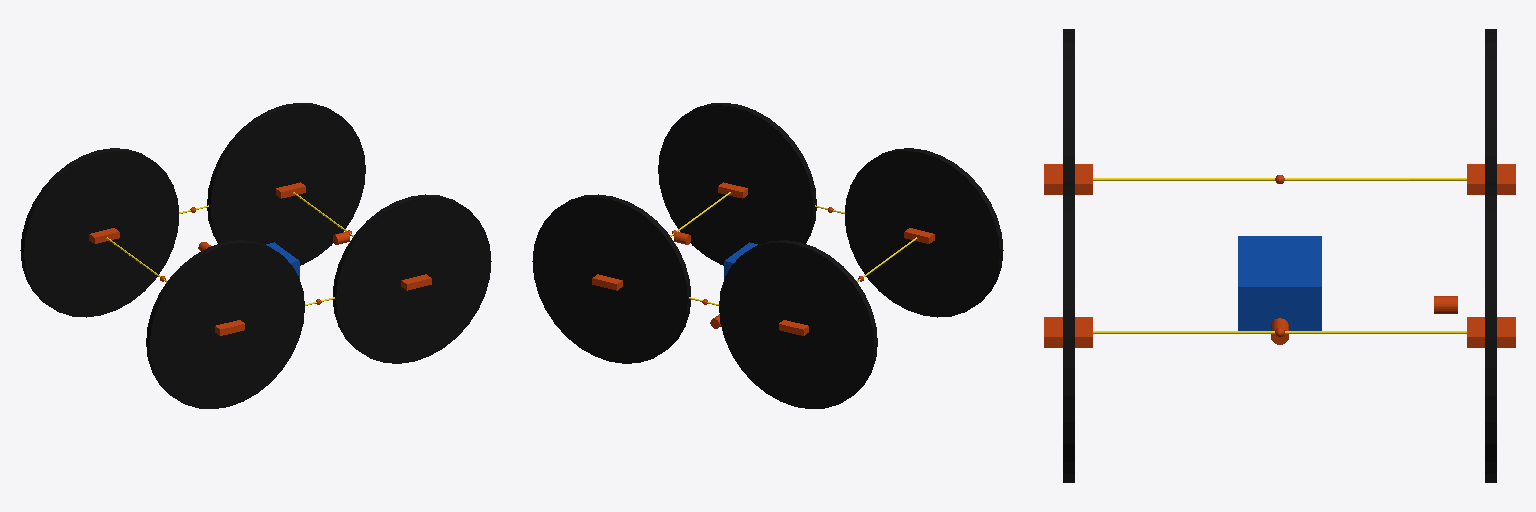
URDF robot description (goat):
<?xml version="1.0"?>
<!--
  GOAT Robot URDF — Version 4 (Corrected geometry, inertia, tendons)

  
  CORRECTIONS v4 vs v3:
  
  [FIX 1] SEGMENTS  origins recalculés au midpoint en frame parent
    seg_front : parent=lens_FL, midpoint de FL(0.30,+0.35) vers FR(0.30,-0.35)
                → vector dans frame lens_FL = (0, -0.35, 0)
    seg_right : parent=lens_FR, midpoint de FR(0.30,-0.35) vers RR(-0.30,-0.35)
                → vector dans frame lens_FR = (-0.30, 0, 0)
    seg_back  : parent=lens_RR, midpoint de RR(-0.30,-0.35) vers RL(-0.30,+0.35)
                → vector dans frame lens_RR = (0, +0.35, 0)
    seg_left  : parent=lens_RL, midpoint de RL(-0.30,+0.35) vers FL(+0.30,+0.35)
                → vector dans frame lens_RL = (+0.30, 0, 0)

  [FIX 2] ROUES  toutes axis xyz="0 1 0" (avance selon X)
    Spawn height: payload à Z=0.275 → roues (lenses à Z=0.05 rel.) à Z=0.325
    → roues touchent sol à Z = 0.325 - 0.25 = 0.075 ✓ (avec sol à Z=0)
    NOTE: spawn pos dans goat_sim.py doit être pos=(0,0,0.325)

  [FIX 3] INERTIE  rpy supprimé de <inertial>, termes recalculés dans frame link
    Cylindre aligné Y (seg_front/seg_back, L=0.70m, r=0.0025m, m=0.09kg):
      ixx = izz = m*(3r²+L²)/12 = 0.09*(7.5e-6+0.49)/12 = 3.675e-3
      iyy = m*r²/2 = 0.09*6.25e-6/2 = 2.8e-7 ≈ 1e-6 (plancher numérique)
    Cylindre aligné X (seg_right/seg_left, L=0.60m, r=0.0025m, m=0.08kg):
      ixx = m*r²/2 = 2.5e-7 ≈ 1e-6
      iyy = izz = m*(3r²+L²)/12 = 0.08*(7.5e-6+0.36)/12 = 2.400e-3
    Cylindre roue aligné Y (R=0.25m, h=0.02m, m=0.05kg):
      Disque fin: ixx=izz=m*(3R²+h²)/12=0.05*(0.1875+0.0004)/12=7.83e-4
      iyy = m*R²/2 = 0.05*0.0625/2 = 1.5625e-3

  [FIX 4] TENDONS  cycle fermé impossible en URDF (Genesis = arbre acyclique)
    Solution: joints prismatiques payload→actuator (représentent longueur du tendon)
    Les eyelets sont des liens fixed sur les lenses (visualisation + point de force en Python)
    La force de tendon est appliquée en Python via apply_force() sur les lenses
    tenant compte de la distance eyelet↔payload à chaque step

  GÉOMÉTRIE (cf paper):
    • 4 tiges fibre de verre: L=2m, d=5mm → 2 anneaux de circonférence 4m
    • Rayon anneau: R = 4/(2π) = 0.6366m (non utilisé ici: approx rectangulaire)
    • Connecteurs rigides (chevrons): 2×8cm, angle 120°
    • Roues: 10 rayons, L=25cm, d=8mm fibre de verre
    • Séparation lenses (track width): 54cm → demi-track = 0.27m ≈ 0.30m
    • Séparation front-back: ~0.70m → demi = 0.35m
    • Payload: 1.8kg, total: 2.8kg
  
-->
<robot name="goat">

  <material name="fiberglass"><color rgba="0.95 0.85 0.10 1.0"/></material>
  <material name="payload_box"><color rgba="0.10 0.35 0.70 1.0"/></material>
  <material name="wheel_dark"><color rgba="0.12 0.12 0.12 1.0"/></material>
  <material name="connector"><color rgba="0.80 0.30 0.10 1.0"/></material>

  <!-- 
       PAYLOAD — base link, 1.8 kg
       Boîtier central waterproof (paper: 1.8kg)
       Dimensions estimées: 20×14×8 cm
 -->
  <link name="payload">
    <visual>
      <origin xyz="0 0 0" rpy="0 0 0"/>
      <geometry><box size="0.20 0.14 0.08"/></geometry>
      <material name="payload_box"/>
    </visual>
    <collision>
      <origin xyz="0 0 0" rpy="0 0 0"/>
      <geometry><box size="0.20 0.14 0.08"/></geometry>
    </collision>
    <inertial>
      <origin xyz="0 0 0" rpy="0 0 0"/>
      <mass value="1.80"/>
      <!-- Boîte 20×14×8cm: ixx=m(b²+c²)/12, iyy=m(a²+c²)/12, izz=m(a²+b²)/12 -->
      <inertia ixx="0.003940" ixy="0" ixz="0"
               iyy="0.005150" iyz="0"
               izz="0.006720"/>
    </inertial>
  </link>

  <!-- 
       LENSES (×4) — Connecteurs rigides chevrons
       Paper: 2 tiges 8cm, angle 120°, joint T fixe
       Positions dans frame payload:
         FL: (+0.30, +0.35, 0.05)
         FR: (+0.30, -0.35, 0.05)
         RL: (-0.30, +0.35, 0.05)
         RR: (-0.30, -0.35, 0.05)
       Visualisation: boîte 8×8×2cm (approxime le chevron)
  -->

  <link name="lens_FL">
    <visual>
      <origin xyz="0 0 0" rpy="0 0 0"/>
      <geometry><box size="0.08 0.08 0.02"/></geometry>
      <material name="connector"/>
    </visual>
    <collision>
      <origin xyz="0 0 0" rpy="0 0 0"/>
      <geometry><box size="0.08 0.08 0.02"/></geometry>
    </collision>
    <inertial>
      <origin xyz="0 0 0" rpy="0 0 0"/>
      <mass value="0.010"/>
      <!-- Boîte 8×8×2cm -->
      <inertia ixx="0.0000117" ixy="0" ixz="0"
               iyy="0.0000117" iyz="0"
               izz="0.0000213"/>
    </inertial>
  </link>
  <joint name="lens_FL_joint" type="fixed">
    <parent link="payload"/>
    <child  link="lens_FL"/>
    <origin xyz="0.30 0.35 0.05" rpy="0 0 0"/>
  </joint>

  <link name="lens_FR">
    <visual>
      <origin xyz="0 0 0" rpy="0 0 0"/>
      <geometry><box size="0.08 0.08 0.02"/></geometry>
      <material name="connector"/>
    </visual>
    <collision>
      <origin xyz="0 0 0" rpy="0 0 0"/>
      <geometry><box size="0.08 0.08 0.02"/></geometry>
    </collision>
    <inertial>
      <origin xyz="0 0 0" rpy="0 0 0"/>
      <mass value="0.010"/>
      <inertia ixx="0.0000117" ixy="0" ixz="0"
               iyy="0.0000117" iyz="0"
               izz="0.0000213"/>
    </inertial>
  </link>
  <joint name="lens_FR_joint" type="fixed">
    <parent link="payload"/>
    <child  link="lens_FR"/>
    <origin xyz="0.30 -0.35 0.05" rpy="0 0 0"/>
  </joint>

  <link name="lens_RL">
    <visual>
      <origin xyz="0 0 0" rpy="0 0 0"/>
      <geometry><box size="0.08 0.08 0.02"/></geometry>
      <material name="connector"/>
    </visual>
    <collision>
      <origin xyz="0 0 0" rpy="0 0 0"/>
      <geometry><box size="0.08 0.08 0.02"/></geometry>
    </collision>
    <inertial>
      <origin xyz="0 0 0" rpy="0 0 0"/>
      <mass value="0.010"/>
      <inertia ixx="0.0000117" ixy="0" ixz="0"
               iyy="0.0000117" iyz="0"
               izz="0.0000213"/>
    </inertial>
  </link>
  <joint name="lens_RL_joint" type="fixed">
    <parent link="payload"/>
    <child  link="lens_RL"/>
    <origin xyz="-0.30 0.35 0.05" rpy="0 0 0"/>
  </joint>

  <link name="lens_RR">
    <visual>
      <origin xyz="0 0 0" rpy="0 0 0"/>
      <geometry><box size="0.08 0.08 0.02"/></geometry>
      <material name="connector"/>
    </visual>
    <collision>
      <origin xyz="0 0 0" rpy="0 0 0"/>
      <geometry><box size="0.08 0.08 0.02"/></geometry>
    </collision>
    <inertial>
      <origin xyz="0 0 0" rpy="0 0 0"/>
      <mass value="0.010"/>
      <inertia ixx="0.0000117" ixy="0" ixz="0"
               iyy="0.0000117" iyz="0"
               izz="0.0000213"/>
    </inertial>
  </link>
  <joint name="lens_RR_joint" type="fixed">
    <parent link="payload"/>
    <child  link="lens_RR"/>
    <origin xyz="-0.30 -0.35 0.05" rpy="0 0 0"/>
  </joint>

  <!-- 
       SEGMENTS (×4) — Tiges fibre de verre
       
       [FIX 1] origin = vecteur du frame parent vers le MIDPOINT du segment
       [FIX 3] inertie calculée dans frame link (pas de rpy dans <inertial>)
       
       seg_front: FL→FR, longueur 0.70m, axe Y
         midpoint world: (0.30, 0.00, 0.05)
         frame parent (lens_FL) à (0.30, +0.35, 0.05)
         → origin xyz="0.0 -0.35 0.0" (FL vers midpoint)
         → cylindre aligné Y: rpy="1.5708 0 0" dans visual
         
       seg_right: FR→RR, longueur 0.60m, axe X
         midpoint world: (0.00, -0.35, 0.05)
         frame parent (lens_FR) à (0.30, -0.35, 0.05)
         → origin xyz="-0.30 0.0 0.0"
         → cylindre aligné X: rpy="0 1.5708 0" dans visual
         
       seg_back: RR→RL, longueur 0.70m, axe Y
         midpoint world: (-0.30, 0.00, 0.05)
         frame parent (lens_RR) à (-0.30, -0.35, 0.05)
         → origin xyz="0.0 0.35 0.0"
         → cylindre aligné Y: rpy="1.5708 0 0" dans visual
         
       seg_left: RL→FL, longueur 0.60m, axe X
         midpoint world: (0.00, +0.35, 0.05)
         frame parent (lens_RL) à (-0.30, +0.35, 0.05)
         → origin xyz="0.30 0.0 0.0"
         → cylindre aligné X: rpy="0 1.5708 0" dans visual
-->

  <!-- SEGMENT FRONT: FL → FR (0.70m, axe Y) -->
  <link name="seg_front">
    <visual>
      <origin xyz="0 0 0" rpy="1.5708 0 0"/>
      <geometry><cylinder radius="0.0025" length="0.70"/></geometry>
      <material name="fiberglass"/>
    </visual>
    <collision>
      <origin xyz="0 0 0" rpy="1.5708 0 0"/>
      <geometry><cylinder radius="0.0025" length="0.70"/></geometry>
    </collision>
    <inertial>
      <origin xyz="0 0 0" rpy="0 0 0"/>
      <mass value="0.09"/>
      <!--
        Cylindre aligné Y: L=0.70m, r=0.0025m, m=0.09kg
        ixx = izz = m*(3r²+L²)/12 = 0.09*(3*6.25e-6+0.49)/12 = 3.675e-3
        iyy = m*r²/2                = 0.09*6.25e-6/2           = 2.8e-7 → 1e-6
      -->
      <inertia ixx="0.003675" ixy="0" ixz="0"
               iyy="0.000001" iyz="0"
               izz="0.003675"/>
    </inertial>
  </link>
  <joint name="j_FL_to_seg_front" type="fixed">
    <parent link="lens_FL"/>
    <child  link="seg_front"/>
    <origin xyz="0.0 -0.35 0.0" rpy="0 0 0"/>
  </joint>

  <!-- SEGMENT RIGHT: FR → RR (0.60m, axe X) -->
  <link name="seg_right">
    <visual>
      <origin xyz="0 0 0" rpy="0 1.5708 0"/>
      <geometry><cylinder radius="0.0025" length="0.60"/></geometry>
      <material name="fiberglass"/>
    </visual>
    <collision>
      <origin xyz="0 0 0" rpy="0 1.5708 0"/>
      <geometry><cylinder radius="0.0025" length="0.60"/></geometry>
    </collision>
    <inertial>
      <origin xyz="0 0 0" rpy="0 0 0"/>
      <mass value="0.08"/>
      <!--
        Cylindre aligné X: L=0.60m, r=0.0025m, m=0.08kg
        ixx = m*r²/2                = 0.08*6.25e-6/2           = 2.5e-7 → 1e-6
        iyy = izz = m*(3r²+L²)/12  = 0.08*(1.875e-5+0.36)/12 = 2.400e-3
      -->
      <inertia ixx="0.000001" ixy="0" ixz="0"
               iyy="0.002400" iyz="0"
               izz="0.002400"/>
    </inertial>
  </link>
  <joint name="j_FR_to_seg_right" type="fixed">
    <parent link="lens_FR"/>
    <child  link="seg_right"/>
    <origin xyz="-0.30 0.0 0.0" rpy="0 0 0"/>
  </joint>

  <!-- SEGMENT BACK: RR → RL (0.70m, axe Y) -->
  <link name="seg_back">
    <visual>
      <origin xyz="0 0 0" rpy="1.5708 0 0"/>
      <geometry><cylinder radius="0.0025" length="0.70"/></geometry>
      <material name="fiberglass"/>
    </visual>
    <collision>
      <origin xyz="0 0 0" rpy="1.5708 0 0"/>
      <geometry><cylinder radius="0.0025" length="0.70"/></geometry>
    </collision>
    <inertial>
      <origin xyz="0 0 0" rpy="0 0 0"/>
      <mass value="0.09"/>
      <!--
        Cylindre aligné Y: L=0.70m, r=0.0025m, m=0.09kg (identique seg_front)
      -->
      <inertia ixx="0.003675" ixy="0" ixz="0"
               iyy="0.000001" iyz="0"
               izz="0.003675"/>
    </inertial>
  </link>
  <joint name="j_RR_to_seg_back" type="fixed">
    <parent link="lens_RR"/>
    <child  link="seg_back"/>
    <origin xyz="0.0 0.35 0.0" rpy="0 0 0"/>
  </joint>

  <!-- SEGMENT LEFT: RL → FL (0.60m, axe X) -->
  <link name="seg_left">
    <visual>
      <origin xyz="0 0 0" rpy="0 1.5708 0"/>
      <geometry><cylinder radius="0.0025" length="0.60"/></geometry>
      <material name="fiberglass"/>
    </visual>
    <collision>
      <origin xyz="0 0 0" rpy="0 1.5708 0"/>
      <geometry><cylinder radius="0.0025" length="0.60"/></geometry>
    </collision>
    <inertial>
      <origin xyz="0 0 0" rpy="0 0 0"/>
      <mass value="0.08"/>
      <!--
        Cylindre aligné X: L=0.60m, identique seg_right
      -->
      <inertia ixx="0.000001" ixy="0" ixz="0"
               iyy="0.002400" iyz="0"
               izz="0.002400"/>
    </inertial>
  </link>
  <joint name="j_RL_to_seg_left" type="fixed">
    <parent link="lens_RL"/>
    <child  link="seg_left"/>
    <origin xyz="0.30 0.0 0.0" rpy="0 0 0"/>
  </joint>

  <!-- 
       EYELETS (×4) — Points de guidage des tendons
       Paper: "guided from the central payload through
       an eyelet on one connector ... to an eyelet on
       the diametrically opposite connector"
       → eyelets au milieu de chaque segment (midpoint)
       → fixed sur chaque segment (origin=0,0,0 car déjà au midpoint)
-->

  <link name="eyelet_F">
    <visual>
      <origin xyz="0 0 0" rpy="0 0 0"/>
      <geometry><sphere radius="0.008"/></geometry>
      <material name="connector"/>
    </visual>
    <collision>
      <origin xyz="0 0 0" rpy="0 0 0"/>
      <geometry><sphere radius="0.008"/></geometry>
    </collision>
    <inertial>
      <origin xyz="0 0 0" rpy="0 0 0"/>
      <mass value="0.002"/>
      <inertia ixx="0.000001" ixy="0" ixz="0"
               iyy="0.000001" iyz="0"
               izz="0.000001"/>
    </inertial>
  </link>
  <joint name="j_seg_front_eyelet" type="fixed">
    <parent link="seg_front"/>
    <child  link="eyelet_F"/>
    <origin xyz="0 0 0" rpy="0 0 0"/>
  </joint>

  <link name="eyelet_B">
    <visual>
      <origin xyz="0 0 0" rpy="0 0 0"/>
      <geometry><sphere radius="0.008"/></geometry>
      <material name="connector"/>
    </visual>
    <collision>
      <origin xyz="0 0 0" rpy="0 0 0"/>
      <geometry><sphere radius="0.008"/></geometry>
    </collision>
    <inertial>
      <origin xyz="0 0 0" rpy="0 0 0"/>
      <mass value="0.002"/>
      <inertia ixx="0.000001" ixy="0" ixz="0"
               iyy="0.000001" iyz="0"
               izz="0.000001"/>
    </inertial>
  </link>
  <joint name="j_seg_back_eyelet" type="fixed">
    <parent link="seg_back"/>
    <child  link="eyelet_B"/>
    <origin xyz="0 0 0" rpy="0 0 0"/>
  </joint>

  <link name="eyelet_R">
    <visual>
      <origin xyz="0 0 0" rpy="0 0 0"/>
      <geometry><sphere radius="0.008"/></geometry>
      <material name="connector"/>
    </visual>
    <collision>
      <origin xyz="0 0 0" rpy="0 0 0"/>
      <geometry><sphere radius="0.008"/></geometry>
    </collision>
    <inertial>
      <origin xyz="0 0 0" rpy="0 0 0"/>
      <mass value="0.002"/>
      <inertia ixx="0.000001" ixy="0" ixz="0"
               iyy="0.000001" iyz="0"
               izz="0.000001"/>
    </inertial>
  </link>
  <joint name="j_seg_right_eyelet" type="fixed">
    <parent link="seg_right"/>
    <child  link="eyelet_R"/>
    <origin xyz="0 0 0" rpy="0 0 0"/>
  </joint>

  <link name="eyelet_L">
    <visual>
      <origin xyz="0 0 0" rpy="0 0 0"/>
      <geometry><sphere radius="0.008"/></geometry>
      <material name="connector"/>
    </visual>
    <collision>
      <origin xyz="0 0 0" rpy="0 0 0"/>
      <geometry><sphere radius="0.008"/></geometry>
    </collision>
    <inertial>
      <origin xyz="0 0 0" rpy="0 0 0"/>
      <mass value="0.002"/>
      <inertia ixx="0.000001" ixy="0" ixz="0"
               iyy="0.000001" iyz="0"
               izz="0.000001"/>
    </inertial>
  </link>
  <joint name="j_seg_left_eyelet" type="fixed">
    <parent link="seg_left"/>
    <child  link="eyelet_L"/>
    <origin xyz="0 0 0" rpy="0 0 0"/>
  </joint>

  <!-- 
       ROUES (×4) — Continuous joints
       Paper: 10 rayons, L=25cm, d=8mm fibre de verre
       
       [FIX 2] Toutes les roues axis xyz="0 1 0"
       (avance selon +X, rotation autour de Y)
       
       [FIX 2] origin xyz="0 0 0" → roue centrée sur lens
       Le robot doit être spawné à Z=0.325 dans goat_sim.py
       pour que les roues (lenses à Z=+0.05 rel., R=0.25m)
       touchent le sol: Z_payload + 0.05 - 0.25 = 0 → Z_payload = 0.20
       (attention: lens est à Z=+0.05 du payload, donc le sol
        est atteint si Z_payload + 0.05 = 0.25 → Z_payload = 0.20)
       
       [FIX 3] Inertie disque: R=0.25m, h=0.02m, m=0.05kg
         ixx = izz = m*(3R²+h²)/12 = 0.05*(3*0.0625+0.0004)/12 = 7.83e-4
         iyy (axe de spin Y) = m*R²/2 = 0.05*0.0625/2 = 1.5625e-3
 -->

  <link name="wheel_FL">
    <visual>
      <origin xyz="0 0 0" rpy="1.5708 0 0"/>
      <geometry><cylinder radius="0.2500" length="0.02"/></geometry>
      <material name="wheel_dark"/>
    </visual>
    <collision>
      <origin xyz="0 0 0" rpy="1.5708 0 0"/>
      <geometry><cylinder radius="0.2500" length="0.02"/></geometry>
    </collision>
    <inertial>
      <origin xyz="0 0 0" rpy="0 0 0"/>
      <mass value="0.050"/>
      <inertia ixx="0.000783" ixy="0" ixz="0"
               iyy="0.001563" iyz="0"
               izz="0.000783"/>
    </inertial>
  </link>
  <joint name="wheel_FL_joint" type="continuous">
    <parent link="lens_FL"/>
    <child  link="wheel_FL"/>
    <origin xyz="0 0 0" rpy="0 0 0"/>
    <axis xyz="0 1 0"/>
    <dynamics damping="0.3" friction="0.05"/>
  </joint>

  <link name="wheel_FR">
    <visual>
      <origin xyz="0 0 0" rpy="1.5708 0 0"/>
      <geometry><cylinder radius="0.2500" length="0.02"/></geometry>
      <material name="wheel_dark"/>
    </visual>
    <collision>
      <origin xyz="0 0 0" rpy="1.5708 0 0"/>
      <geometry><cylinder radius="0.2500" length="0.02"/></geometry>
    </collision>
    <inertial>
      <origin xyz="0 0 0" rpy="0 0 0"/>
      <mass value="0.050"/>
      <inertia ixx="0.000783" ixy="0" ixz="0"
               iyy="0.001563" iyz="0"
               izz="0.000783"/>
    </inertial>
  </link>
  <joint name="wheel_FR_joint" type="continuous">
    <parent link="lens_FR"/>
    <child  link="wheel_FR"/>
    <origin xyz="0 0 0" rpy="0 0 0"/>
    <axis xyz="0 1 0"/>
    <dynamics damping="0.3" friction="0.05"/>
  </joint>

  <link name="wheel_RL">
    <visual>
      <origin xyz="0 0 0" rpy="1.5708 0 0"/>
      <geometry><cylinder radius="0.2500" length="0.02"/></geometry>
      <material name="wheel_dark"/>
    </visual>
    <collision>
      <origin xyz="0 0 0" rpy="1.5708 0 0"/>
      <geometry><cylinder radius="0.2500" length="0.02"/></geometry>
    </collision>
    <inertial>
      <origin xyz="0 0 0" rpy="0 0 0"/>
      <mass value="0.050"/>
      <inertia ixx="0.000783" ixy="0" ixz="0"
               iyy="0.001563" iyz="0"
               izz="0.000783"/>
    </inertial>
  </link>
  <joint name="wheel_RL_joint" type="continuous">
    <parent link="lens_RL"/>
    <child  link="wheel_RL"/>
    <origin xyz="0 0 0" rpy="0 0 0"/>
    <axis xyz="0 1 0"/>
    <dynamics damping="0.3" friction="0.05"/>
  </joint>

  <link name="wheel_RR">
    <visual>
      <origin xyz="0 0 0" rpy="1.5708 0 0"/>
      <geometry><cylinder radius="0.2500" length="0.02"/></geometry>
      <material name="wheel_dark"/>
    </visual>
    <collision>
      <origin xyz="0 0 0" rpy="1.5708 0 0"/>
      <geometry><cylinder radius="0.2500" length="0.02"/></geometry>
    </collision>
    <inertial>
      <origin xyz="0 0 0" rpy="0 0 0"/>
      <mass value="0.050"/>
      <inertia ixx="0.000783" ixy="0" ixz="0"
               iyy="0.001563" iyz="0"
               izz="0.000783"/>
    </inertial>
  </link>
  <joint name="wheel_RR_joint" type="continuous">
    <parent link="lens_RR"/>
    <child  link="wheel_RR"/>
    <origin xyz="0 0 0" rpy="0 0 0"/>
    <axis xyz="0 1 0"/>
    <dynamics damping="0.3" friction="0.05"/>
  </joint>

  <!-- 
       TENDONS — Joints prismatiques (FIX 4)
       
       Contrainte Genesis: PAS de cycles fermés en URDF.
       Le vrai routage du tendon (payload→eyelet_A→frame→eyelet_B→payload)
       forme un cycle impossible à représenter en arbre URDF.
       
       Solution retenue:
         • Joints prismatiques payload→tendon_actuator_X/Y
         • Représentent la LONGUEUR du tendon contrôlée par le treuil
         • Limites: [0.05, 0.50] m (paper: l1/l2 ratio de 1.0 à 6.4)
         • La FORCE de tendon sur les lenses est appliquée en Python:
           F_tendon = kp * (l_ref - l_current) * unit_vector(payload→eyelet)
           → apply_force(eyelet_link, F_tendon, frame='world')
         • Treuils: 40 kg·cm = 3.92 N·m (paper)
         
       Tendon 1 (axe X): contrôle la séparation gauche-droite
         paper: "one tendon running above the central payload"
         → axe X (relie eyelet_R à eyelet_L à travers payload)
         
       Tendon 2 (axe Y): contrôle la séparation avant-arrière
         paper: "the other below the central payload"
         → axe Y (relie eyelet_F à eyelet_B à travers payload)
  -->

  <link name="tendon_actuator_1">
    <inertial>
      <origin xyz="0 0 0" rpy="0 0 0"/>
      <mass value="0.050"/>
      <!-- Treuil: cylindre 3cm rayon, 4cm hauteur, m=50g -->
      <inertia ixx="0.000023" ixy="0" ixz="0"
               iyy="0.000023" iyz="0"
               izz="0.000045"/>
    </inertial>
    <visual>
      <origin xyz="0 0 0" rpy="0 1.5708 0"/>
      <geometry><cylinder radius="0.015" length="0.04"/></geometry>
      <material name="connector"/>
    </visual>
    <collision>
      <origin xyz="0 0 0" rpy="0 1.5708 0"/>
      <geometry><cylinder radius="0.015" length="0.04"/></geometry>
    </collision>
  </link>
  <joint name="tendon_1" type="prismatic">
    <parent link="payload"/>
    <child  link="tendon_actuator_1"/>
    <origin xyz="0 0 0.04" rpy="0 0 0"/>
    <!-- Décalé en Z=+0.04 pour ne pas superposer avec payload -->
    <axis xyz="1 0 0"/>
    <limit lower="0.05" upper="0.50" effort="3.92" velocity="0.05"/>
    <dynamics damping="10.0" friction="0.5"/>
  </joint>

  <link name="tendon_actuator_2">
    <inertial>
      <origin xyz="0 0 0" rpy="0 0 0"/>
      <mass value="0.050"/>
      <inertia ixx="0.000023" ixy="0" ixz="0"
               iyy="0.000045" iyz="0"
               izz="0.000023"/>
    </inertial>
    <visual>
      <origin xyz="0 0 0" rpy="1.5708 0 0"/>
      <geometry><cylinder radius="0.015" length="0.04"/></geometry>
      <material name="connector"/>
    </visual>
    <collision>
      <origin xyz="0 0 0" rpy="1.5708 0 0"/>
      <geometry><cylinder radius="0.015" length="0.04"/></geometry>
    </collision>
  </link>
  <joint name="tendon_2" type="prismatic">
    <parent link="payload"/>
    <child  link="tendon_actuator_2"/>
    <origin xyz="0 0 -0.04" rpy="0 0 0"/>
    <!-- Décalé en Z=-0.04 pour ne pas superposer avec tendon_1 -->
    <axis xyz="0 1 0"/>
    <limit lower="0.05" upper="0.50" effort="3.92" velocity="0.05"/>
    <dynamics damping="10.0" friction="0.5"/>
  </joint>

</robot>

--- Render facts (derived) ---
The picture shows the robot from 3 angles, left to right: view 1: azimuth 30°, elevation 25°; view 2: azimuth 150°, elevation 25°; view 3: azimuth 270°, elevation 25°; orthographic projection.
Robot: goat — 19 links, 18 joints (4 continuous, 2 prismatic, 12 fixed); root link payload; default pose: joints at zero except 2 at the middle of their limits (tendon_1 = 0.275, tendon_2 = 0.275).
Visible links, largest first — view 1: wheel_RR, wheel_FR, wheel_RL, wheel_FL; view 2: wheel_RL, wheel_FL, wheel_RR, wheel_FR; view 3: payload, wheel_FL, wheel_FR, wheel_RL, wheel_RR, lens_FL, lens_FR, lens_RL, lens_RR, seg_front, seg_back.
Link boxes in pixels (<box>): wheel_RR: <box>146,240,304,408</box>; wheel_FR: <box>333,194,491,363</box>; wheel_RL: <box>20,148,178,317</box>; wheel_FL: <box>207,103,365,265</box>; wheel_RL: <box>719,240,877,408</box>; wheel_FL: <box>532,194,690,363</box>; wheel_RR: <box>845,148,1003,317</box>; wheel_FR: <box>658,103,816,265</box>; payload: <box>1238,236,1321,330</box>; wheel_FL: <box>1485,182,1496,482</box>; wheel_FR: <box>1063,182,1074,482</box>; wheel_RL: <box>1485,29,1496,181</box>; wheel_RR: <box>1063,29,1074,181</box>; lens_FL: <box>1467,317,1515,347</box>; lens_FR: <box>1044,317,1092,347</box>; lens_RL: <box>1467,164,1515,194</box>; lens_RR: <box>1044,164,1092,194</box>; seg_front: <box>1093,331,1466,333</box>; seg_back: <box>1093,178,1466,180</box>.
Size in the robot's own frame: 1.1 by 0.78 by 0.5 metres.
Geometry: primitives only (box / cylinder / sphere), no mesh files.
